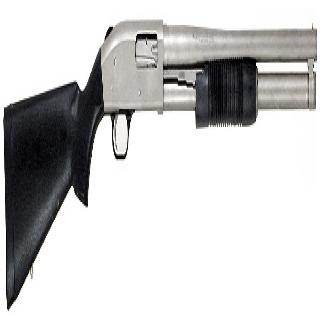gun: (2, 7, 316, 308)
